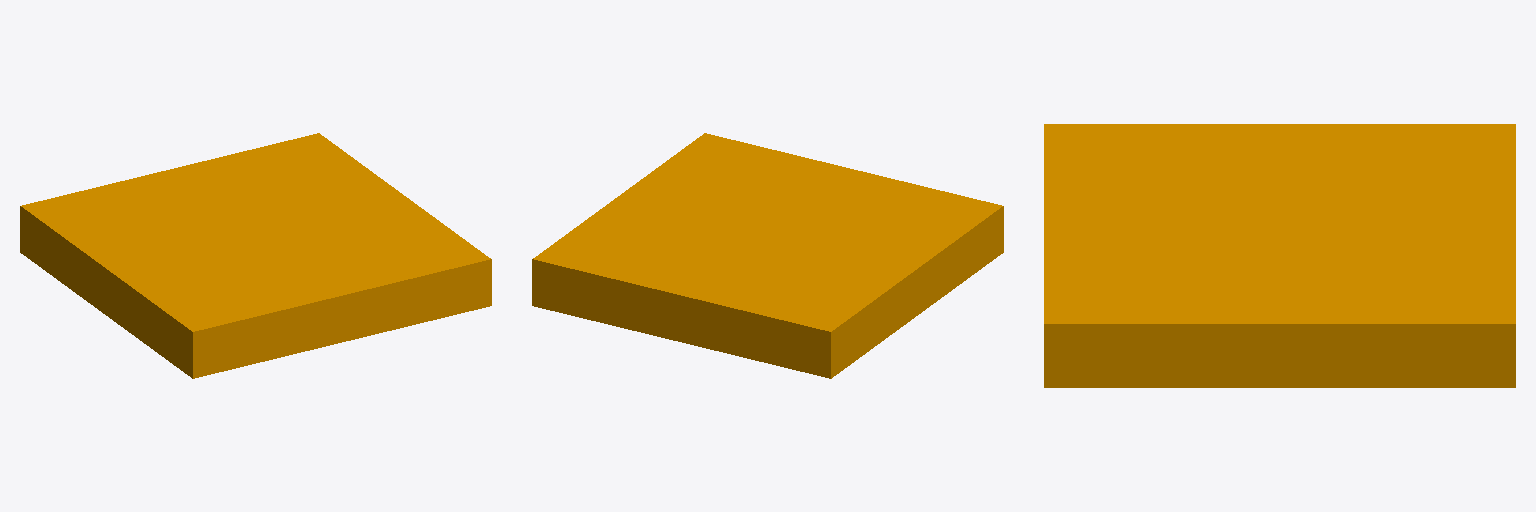
The robot description file, URDF, robot "partnet_bf4dbc47f8688cf2b362845c6edb57fc":
<?xml version="1.0" ?>
<robot name="partnet_bf4dbc47f8688cf2b362845c6edb57fc">
	<link name="my_box">
    <inertial>
      <origin xyz="0 0 0" />
      <mass value="0.2" />
      <inertia  ixx="0.00052" ixy="0.0"  ixz="0.0"  iyy="00.0005"  iyz="0.0"  izz="0.00015" />
    </inertial>
    <visual>
      <origin xyz="0 0 0"/>
        <geometry>
          <box size="0.2 0.2 0.03" />
        </geometry>
      </visual>
      <collision>
        <origin xyz="0 0 0"/>
        <geometry>
          <box size="0.5 0.5 0.03" />
        </geometry>
      </collision>
    </link>
    <gazebo reference="my_box">
      <material>Gazebo/Gray</material>
    </gazebo>
	<joint name="joint_base" type="fixed">
		<origin xyz="0 0 0.1" rpy="1.57 0 0"/>
		<axis xyz="0 0 0"/>
		<child link="link_2"/>
		<parent link="my_box"/>
	</joint>
	<link name="link_0">
		<inertial>
        	<origin xyz="0.0 -0.02 0.0" rpy="0 0 0"/>
        	<mass value="0.008"/>
        	<inertia ixx="0.00004" ixy="0.0" ixz="0.0" iyy="0.00004" iyz="0.0" izz="0.000012"/>
		</inertial>
		<visual name="switch-2">
			<origin xyz="0.0 -0.085 0.02"/>
			<geometry>
				<mesh filename="[local-path]/Projects/pick_n_place/src/models/urdf/faucet/textured_objs/original-1.obj" scale="0.1 0.1 0.1"/>
			</geometry>
		</visual>
		<visual name="switch-2">
			<origin xyz="0.0 -0.085 0.02"/>
			<geometry>
				<mesh filename="[local-path]/Projects/pick_n_place/src/models/urdf/faucet/textured_objs/original-3.obj" scale="0.1 0.1 0.1"/>
			</geometry>
		</visual>
		<visual name="switch-2">
			<origin xyz="0.0 -0.085 0.02"/>
			<geometry>
				<mesh filename="[local-path]/Projects/pick_n_place/src/models/urdf/faucet/textured_objs/original-2.obj" scale="0.1 0.1 0.1"/>
			</geometry>
		</visual>
		<visual name="switch-2">
			<origin xyz="0.0 -0.085 0.02"/>
			<geometry>
				<mesh filename="[local-path]/Projects/pick_n_place/src/models/urdf/faucet/textured_objs/original-5.obj" scale="0.1 0.1 0.1"/>
			</geometry>
		</visual>
		<collision>
			<origin xyz="0.0 -0.085 0.02"/>
			<geometry>
				<mesh filename="[local-path]/Projects/pick_n_place/src/models/urdf/faucet/textured_objs/original-1.obj" scale="0.1 0.1 0.1"/>
			</geometry>
		</collision>
		<collision>
			<origin xyz="0.0 -0.085 0.02"/>
			<geometry>
				<mesh filename="[local-path]/Projects/pick_n_place/src/models/urdf/faucet/textured_objs/original-3.obj" scale="0.1 0.1 0.1"/>
			</geometry>
		</collision>
		<collision>
			<origin xyz="0.0 -0.085 0.02"/>
			<geometry>
				<mesh filename="[local-path]/Projects/pick_n_place/src/models/urdf/faucet/textured_objs/original-2.obj" scale="0.1 0.1 0.1"/>
			</geometry>
		</collision>
		<collision>
			<origin xyz="0.0 -0.085 0.02"/>
			<geometry>
				<mesh filename="[local-path]/Projects/pick_n_place/src/models/urdf/faucet/textured_objs/original-5.obj" scale="0.1 0.1 0.1"/>
			</geometry>
		</collision>
	</link>
	<joint name="joint_0" type="revolute">
		<origin xyz="0.0 0.06 -0.02"/>
		<axis xyz="0 1 0"/>
		<child link="link_0"/>
		<parent link="link_2"/>
		<limit effort="30" velocity="1.0" lower="-1.5707963267948966" upper="1.5707963267948966"/>
	</joint>
	<link name="link_2">
		<inertial>
        	<origin xyz="0 -0.02 -0.02" rpy="0 0 0"/>
        	<mass value="0.9"/>
        	<inertia ixx="0.002" ixy="0.0" ixz="0.0" iyy="0.004" iyz="0.0" izz="0.004"/>
		</inertial>
		<visual name="vertical_support-8">
			<origin xyz="0 0 0"/>
			<geometry>
				<mesh filename="[local-path]/Projects/pick_n_place/src/models/urdf/faucet/textured_objs/original-4.obj" scale="0.1 0.1 0.1"/>
			</geometry>
		</visual>
		<visual name="tube-5">
			<origin xyz="0 0 0"/>
			<geometry>
				<mesh filename="[local-path]/Projects/pick_n_place/src/models/urdf/faucet/textured_objs/original-10.obj" scale="0.1 0.1 0.1"/>
			</geometry>
		</visual>
		<visual name="head-6">
			<origin xyz="0 0 0"/>
			<geometry>
				<mesh filename="[local-path]/Projects/pick_n_place/src/models/urdf/faucet/textured_objs/original-11.obj" scale="0.1 0.1 0.1"/>
			</geometry>
		</visual>
		<visual name="head-6">
			<origin xyz="0 0 0"/>
			<geometry>
				<mesh filename="[local-path]/Projects/pick_n_place/src/models/urdf/faucet/textured_objs/original-14.obj" scale="0.1 0.1 0.1"/>
			</geometry>
		</visual>
		<visual name="head-6">
			<origin xyz="0 0 0"/>
			<geometry>
				<mesh filename="[local-path]/Projects/pick_n_place/src/models/urdf/faucet/textured_objs/original-13.obj" scale="0.1 0.1 0.1"/>
			</geometry>
		</visual>
		<visual name="mouth-7">
			<origin xyz="0 0 0"/>
			<geometry>
				<mesh filename="[local-path]/Projects/pick_n_place/src/models/urdf/faucet/textured_objs/original-12.obj" scale="0.1 0.1 0.1"/>
			</geometry>
		</visual>
		<collision>
			<origin xyz="0 0 0"/>
			<geometry>
				<mesh filename="[local-path]/Projects/pick_n_place/src/models/urdf/faucet/textured_objs/original-4.obj" scale="0.1 0.1 0.1"/>
			</geometry>
		</collision>
		<collision>
			<origin xyz="0 0 0"/>
			<geometry>
				<mesh filename="[local-path]/Projects/pick_n_place/src/models/urdf/faucet/textured_objs/original-10.obj" scale="0.1 0.1 0.1"/>
			</geometry>
		</collision>
		<collision>
			<origin xyz="0 0 0"/>
			<geometry>
				<mesh filename="[local-path]/Projects/pick_n_place/src/models/urdf/faucet/textured_objs/original-11.obj" scale="0.1 0.1 0.1"/>
			</geometry>
		</collision>
		<collision>
			<origin xyz="0 0 0"/>
			<geometry>
				<mesh filename="[local-path]/Projects/pick_n_place/src/models/urdf/faucet/textured_objs/original-14.obj" scale="0.1 0.1 0.1"/>
			</geometry>
		</collision>
		<collision>
			<origin xyz="0 0 0"/>
			<geometry>
				<mesh filename="[local-path]/Projects/pick_n_place/src/models/urdf/faucet/textured_objs/original-13.obj" scale="0.1 0.1 0.1"/>
			</geometry>
		</collision>
		<collision>
			<origin xyz="0 0 0"/>
			<geometry>
				<mesh filename="[local-path]/Projects/pick_n_place/src/models/urdf/faucet/textured_objs/original-12.obj" scale="0.1 0.1 0.1"/>
			</geometry>
		</collision>
	</link>
</robot>

--- Render facts (derived) ---
Views: 3 orthographic renders of the robot side by side, from view 1: azimuth 30°, elevation 25°; view 2: azimuth 150°, elevation 25°; view 3: azimuth 270°, elevation 25°.
Robot: partnet_bf4dbc47f8688cf2b362845c6edb57fc — 3 links, 2 joints (1 revolute, 1 fixed); root link my_box; default pose: every joint at zero.
Visible links, largest first — view 1: my_box; view 2: my_box; view 3: my_box.
Link boxes in pixels (box(x1,y1,x2,y2)): my_box: box(20, 133, 491, 378); my_box: box(532, 133, 1003, 378); my_box: box(1044, 124, 1515, 387).
Bounding box of the posed robot: 0.2 × 0.2 × 0.03 m (x, y, z).
Geometry: only primitive shapes (box / cylinder / sphere) drawn; not drawn: 10 mesh visuals (reference in a form the renderer does not follow).